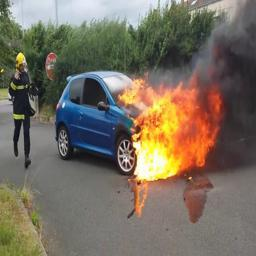fire: (120, 77, 223, 181)
